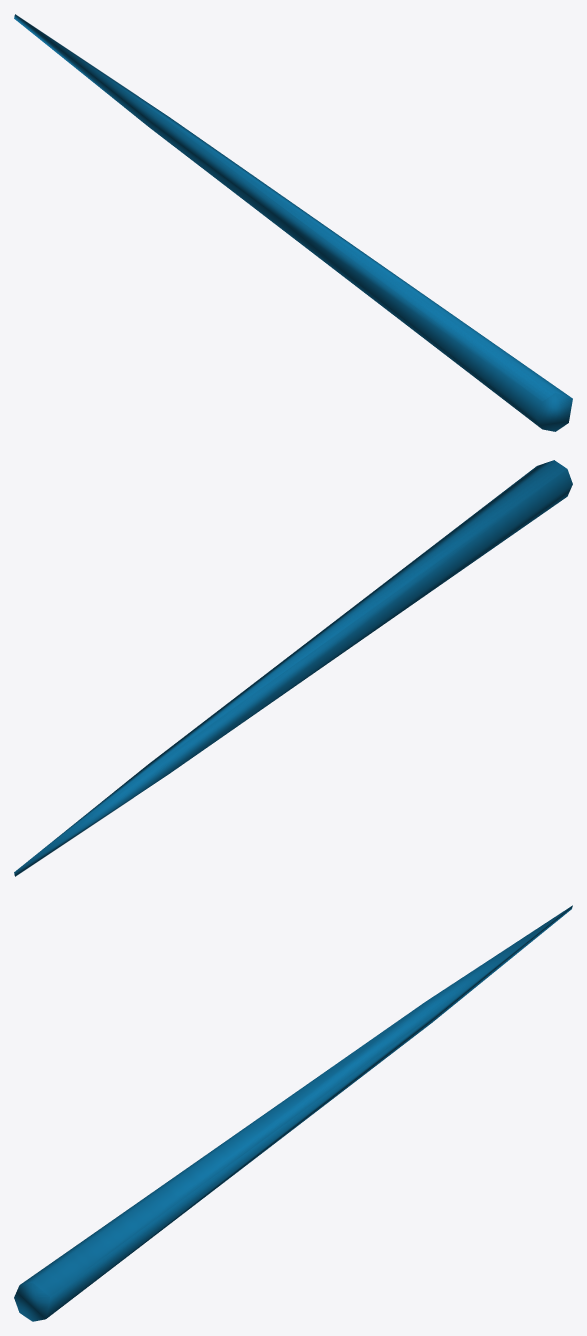
The model's file is SM_projectile_trail_LOD1.fbx.
3 renders of one model, top to bottom at view 1: azimuth 30°, elevation 25°; view 2: azimuth 150°, elevation 25°; view 3: azimuth 330°, elevation 25°, orthographic.
Parts seen in each view (by area): view 1: SM_projectile_trail_LOD1; view 2: SM_projectile_trail_LOD1; view 3: SM_projectile_trail_LOD1.
Part boxes in pixels (x1,y1,x2,y2): SM_projectile_trail_LOD1: (14,14,572,431); SM_projectile_trail_LOD1: (14,460,572,876); SM_projectile_trail_LOD1: (14,905,572,1321).
Bounding box in the file's own units: 0.0386 × 1 × 0.04.
